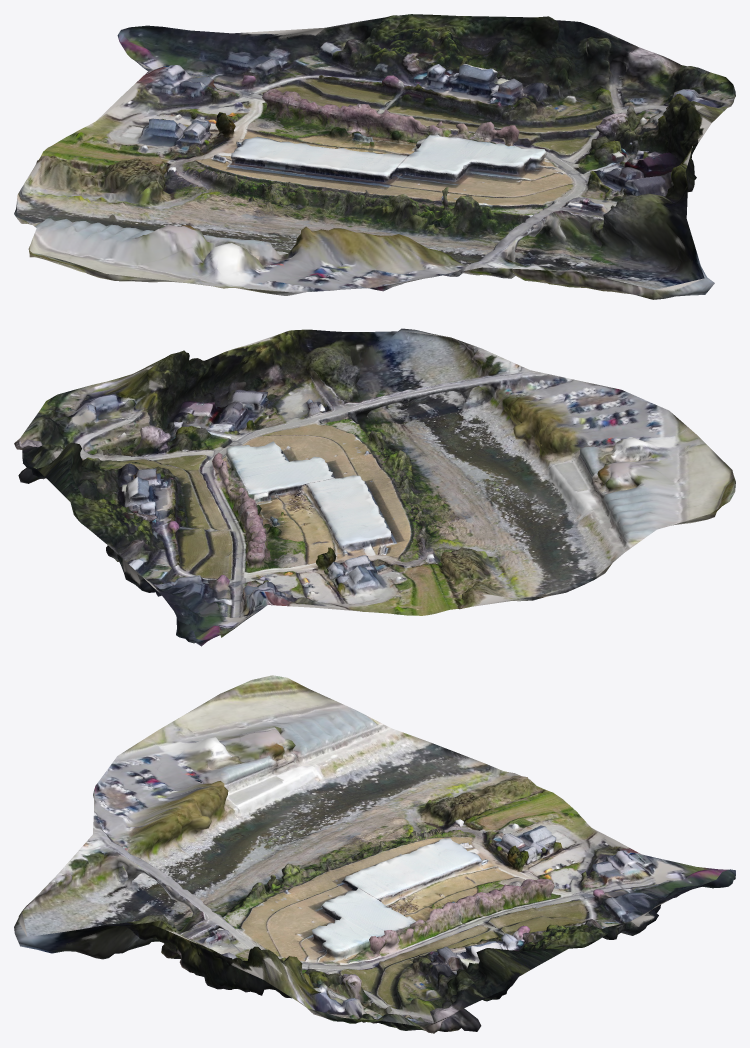
The model's file is kamiyama-kosen-home.glb.
The picture shows the model from 3 angles, top to bottom: view 1: azimuth 30°, elevation 25°; view 2: azimuth 150°, elevation 25°; view 3: azimuth 270°, elevation 25°; orthographic projection. The views are drawn at different scales.
Visible parts, largest first — view 1: baked_mesh; view 2: baked_mesh; view 3: baked_mesh.
Boxes of the visible parts, box(x1,y1,x2,y2) form: baked_mesh: box(14, 14, 735, 299); baked_mesh: box(14, 328, 735, 646); baked_mesh: box(14, 675, 735, 1033).
Size of the model in its own units: 2.37 by 0.2331 by 2.32.
1 material, 1 textured.
